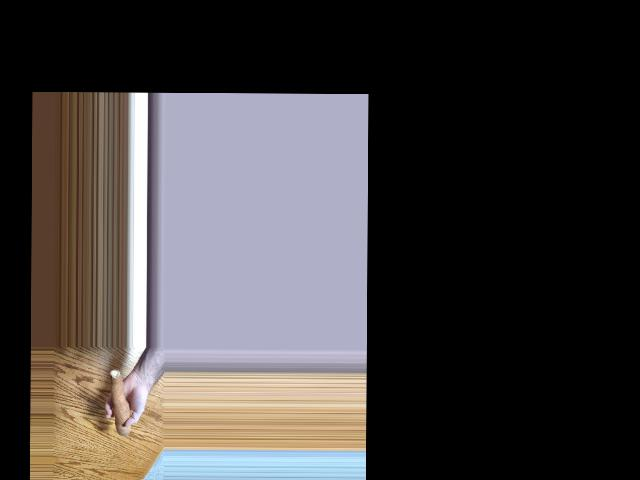sweet_potato: (111, 371, 131, 435)
